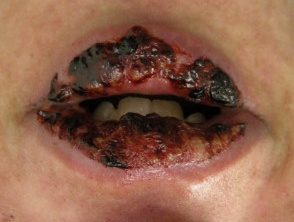SJS-TEN: (20, 0, 280, 222)
